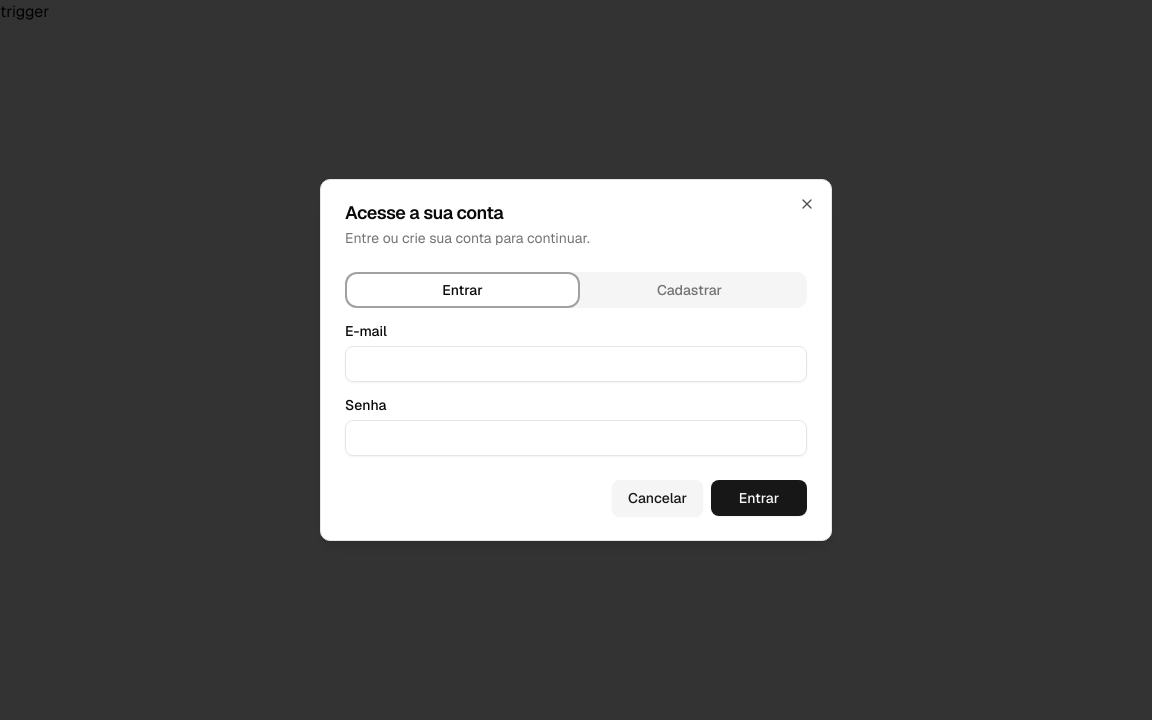
Test: AuthModal › abre com aba Entrar, alterna para Cadastrar e exibe campos acessíveis
The image size is (1152, 720).
Check: the field labelled "E-mail" is shown, box top-left (345, 346), bottom-right (807, 382)
Check: the password field labelled "Senha" is shown, box top-left (345, 420), bottom-right (807, 456)
Click the tab "Cadastrar" at {"x": 690, "y": 290}, box top-left (576, 276), bottom-right (803, 304)
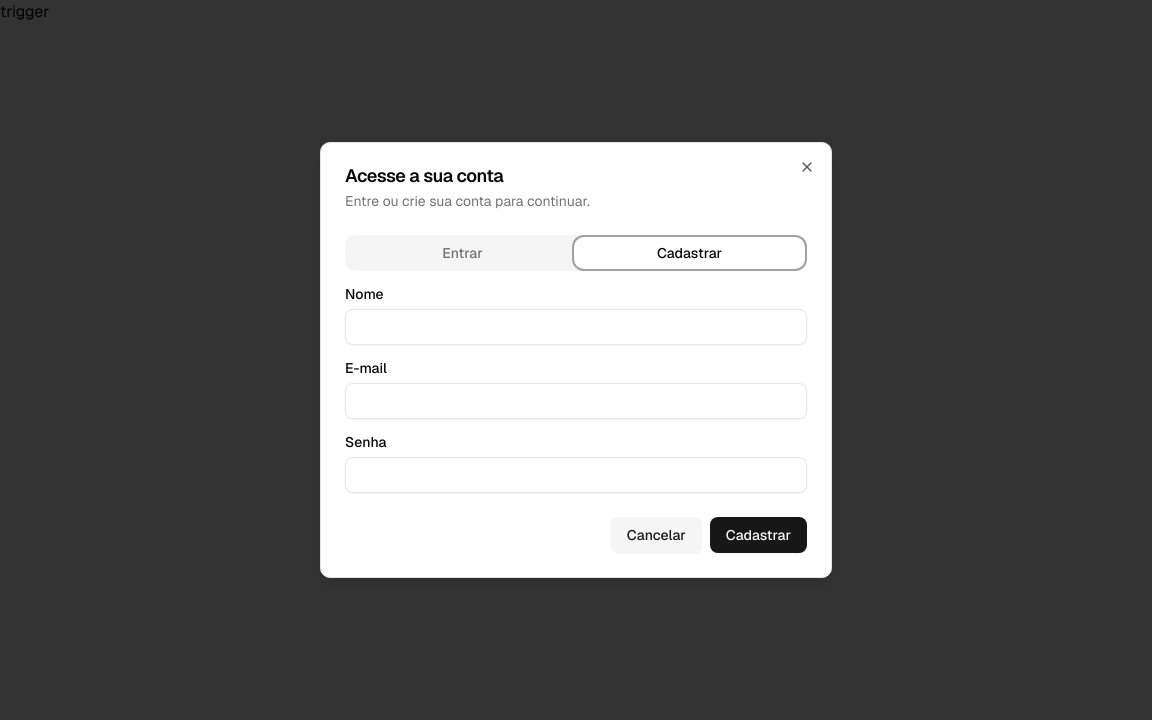
Check: the field labelled "Nome" is shown, box top-left (345, 309), bottom-right (807, 345)
Check: the field labelled "E-mail" is shown, box top-left (345, 383), bottom-right (807, 419)
Check: the password field labelled "Senha" is shown, box top-left (345, 457), bottom-right (807, 493)
